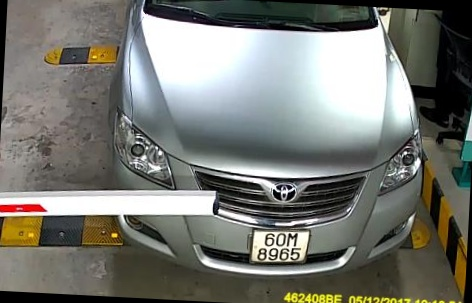plate: (243, 227, 315, 269)
